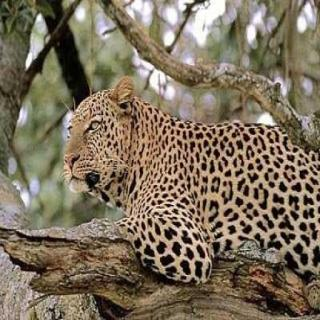Leopard: (69, 86, 320, 304)
